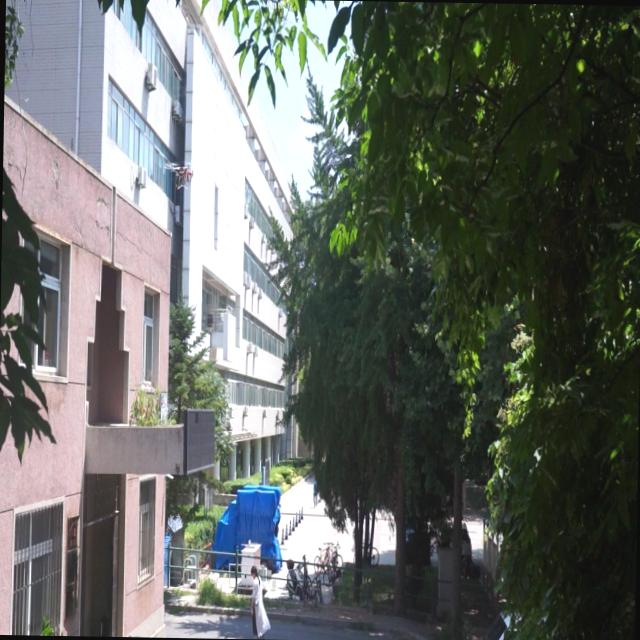drone: (162, 158, 195, 194)
